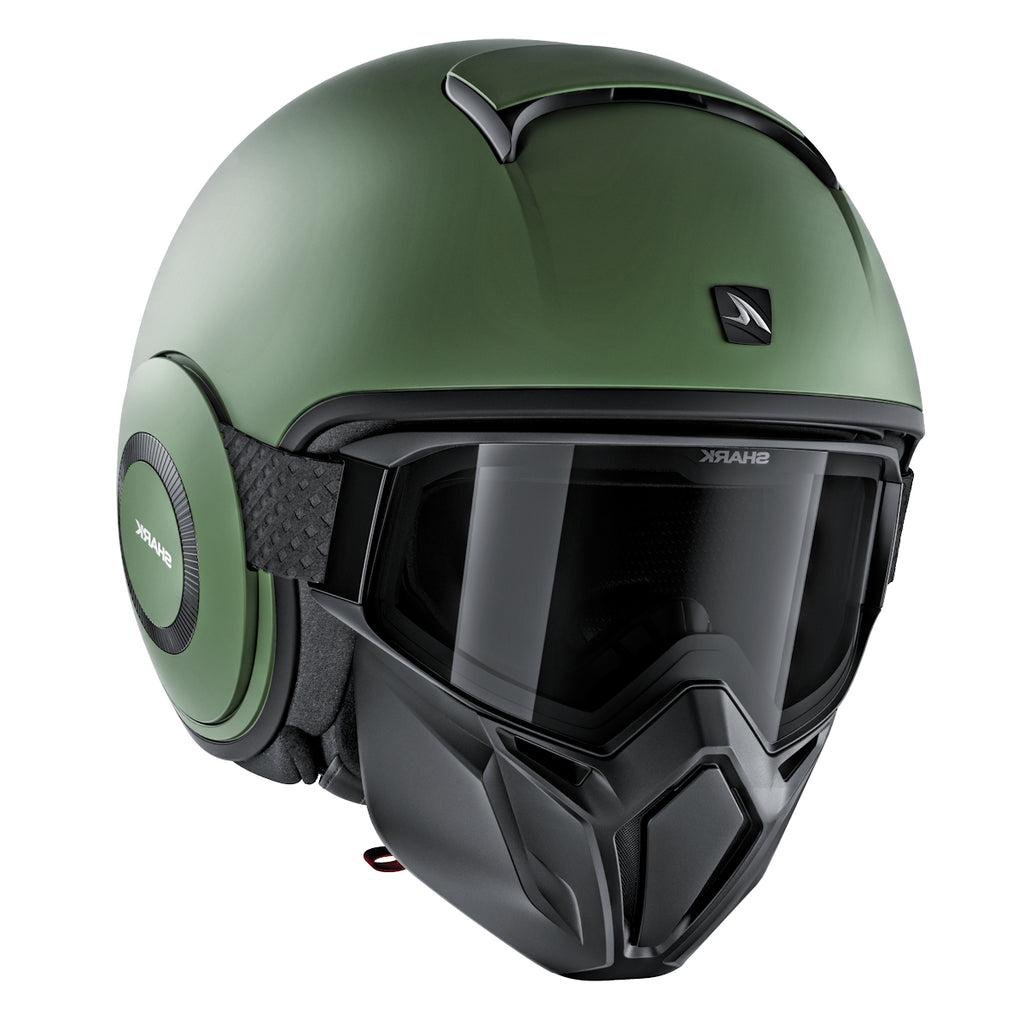Helmet: (112, 39, 928, 986)
